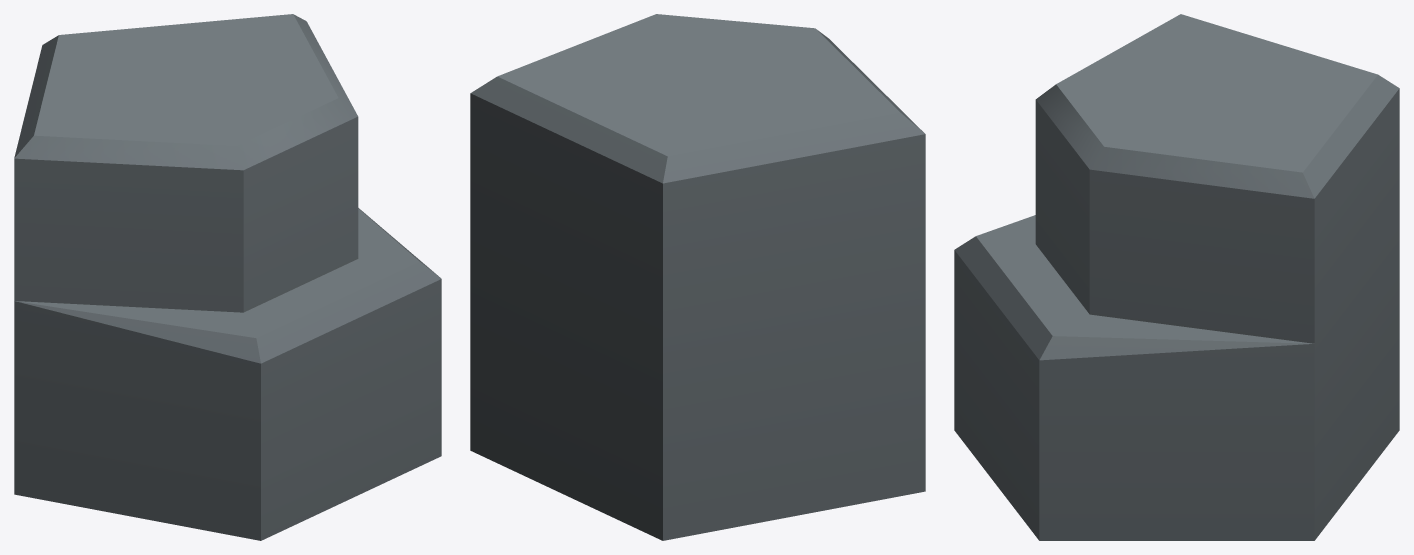
Rendered from Rock_1_A_Color1.gltf.
3 renders of one model, left to right at view 1: azimuth 30°, elevation 25°; view 2: azimuth 150°, elevation 25°; view 3: azimuth 270°, elevation 25°, orthographic. The views are drawn at different scales.
Parts seen in each view (by area): view 1: Rock_1_A_Color1; view 2: Rock_1_A_Color1; view 3: Rock_1_A_Color1.
Part boxes in pixels (x1,y1,x2,y2): Rock_1_A_Color1: (14,14,441,540); Rock_1_A_Color1: (470,14,925,540); Rock_1_A_Color1: (954,14,1399,540).
Size of the model in its own units: 0.578 by 0.5403 by 0.6078.
1 material, 1 textured.
